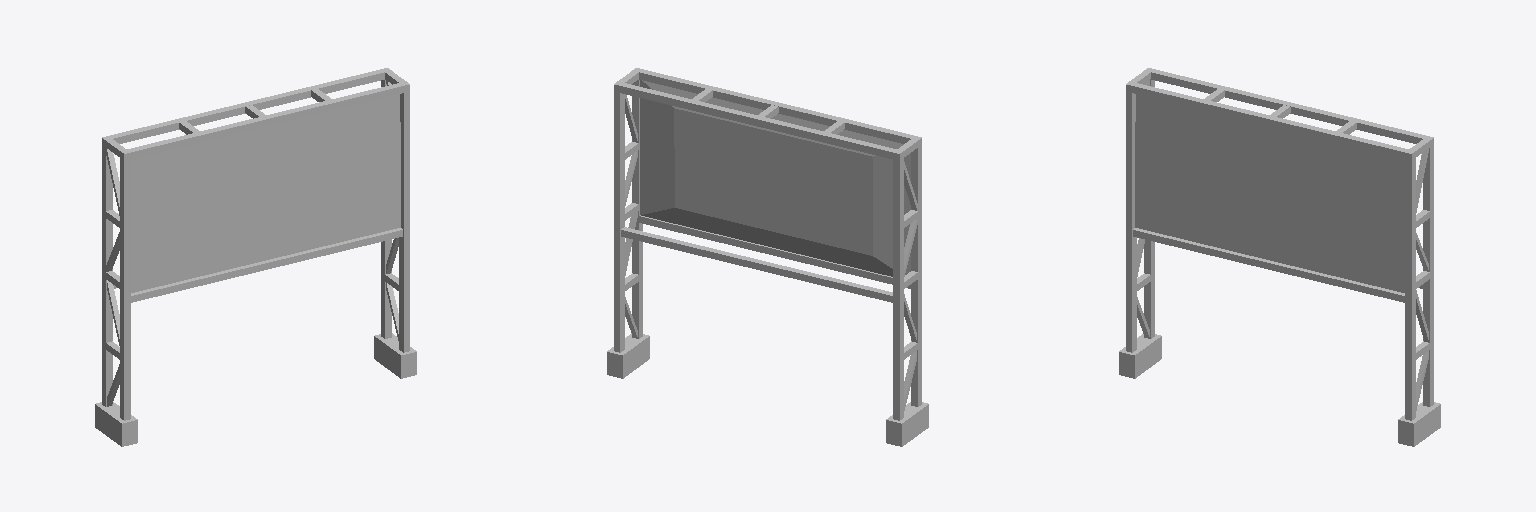
File: Big-Screen-03_Transparent.obj
The picture shows the model from 3 angles: view 1: azimuth 30°, elevation 25°; view 2: azimuth 150°, elevation 25°; view 3: azimuth 330°, elevation 25°; orthographic projection.
Visible parts, largest first — view 1: Metal_Extructure; view 2: Metal_Extructure; view 3: Metal_Extructure.
Boxes of the visible parts, x1=… form: Metal_Extructure: x1=95, y1=68, x2=416, y2=446; Metal_Extructure: x1=607, y1=68, x2=928, y2=446; Metal_Extructure: x1=1119, y1=68, x2=1440, y2=446.
Bounding box in the file's own units: 12.54 × 11.77 × 2.